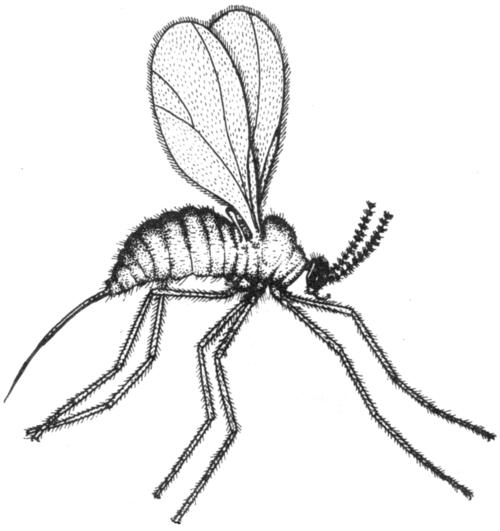Cecidomyiidae: (1, 8, 494, 512)
